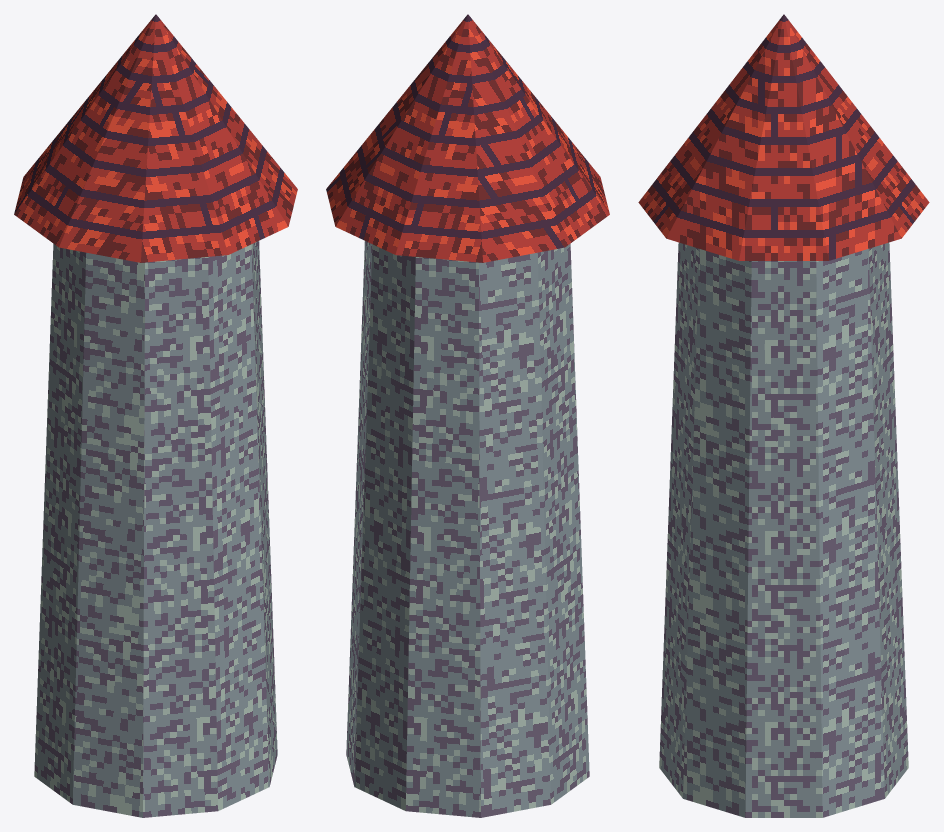
Rendered from a88_moinho_gigante.glb.
3 views of the same model, side by side, from view 1: azimuth 30°, elevation 25°; view 2: azimuth 150°, elevation 25°; view 3: azimuth 270°, elevation 25° (orthographic).
Parts seen in each view (by area): view 1: a88_moinho_gigante; view 2: a88_moinho_gigante; view 3: a88_moinho_gigante.
Part boxes in pixels (x1,y1,x2,y2): a88_moinho_gigante: (14, 14, 297, 817); a88_moinho_gigante: (326, 14, 609, 817); a88_moinho_gigante: (638, 14, 929, 817).
Bounding box in the file's own units: 2.66 × 8 × 2.8.
Materials: 2 (2 with a texture image).
